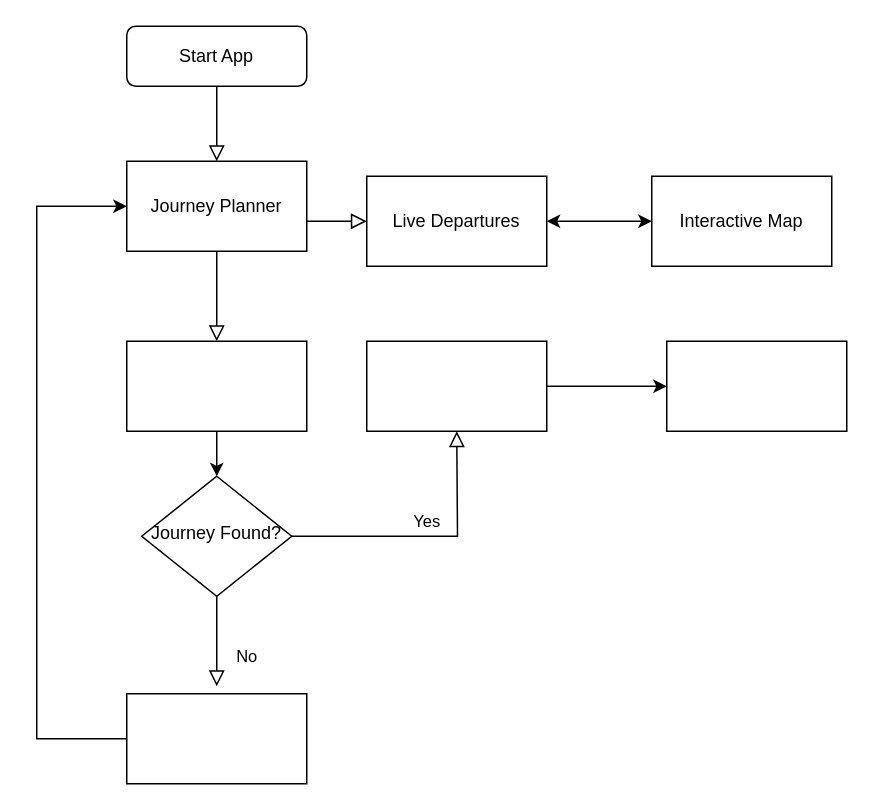
Image size: 873x810. Some labels were removed from this diagram. Each missing label, with the centre of its shape:
Journey Details: the point at 456,385
Journey Results: the point at 216,385
No routes - seek alternatives / change time: the point at 216,738
